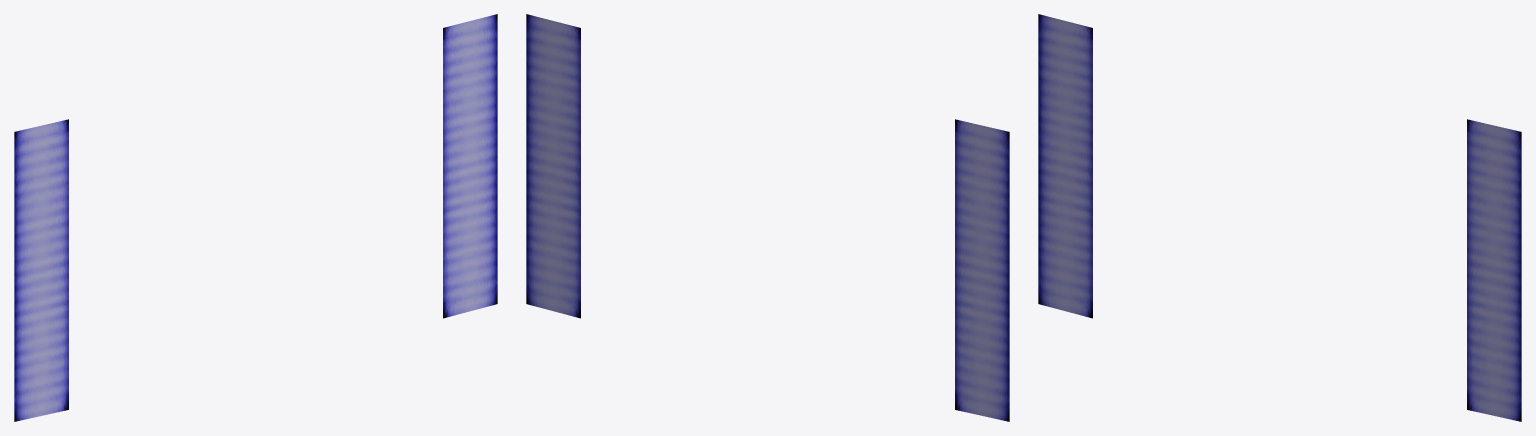
Rendered from bwing_engine_s02_on_l2.fbx.
3 renders of one model, left to right at view 1: azimuth 30°, elevation 25°; view 2: azimuth 150°, elevation 25°; view 3: azimuth 330°, elevation 25°, orthographic.
Parts seen in each view (by area): view 1: mesh_node; view 2: mesh_node; view 3: mesh_node.
Part boxes in pixels (x1,y1,x2,y2): mesh_node: [14, 14, 497, 421]; mesh_node: [526, 14, 1009, 421]; mesh_node: [1038, 14, 1521, 421].
Bounding box in the file's own units: 1.51 × 0.8712 × 0.
1 material, 1 textured.
